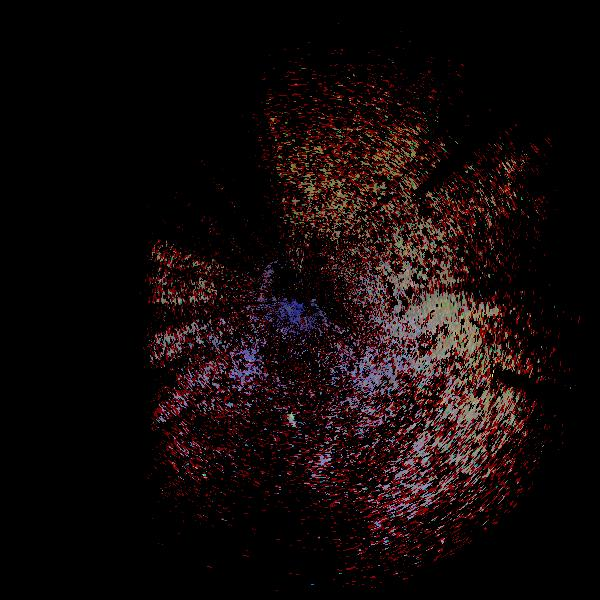roost: (286, 416, 298, 428)
